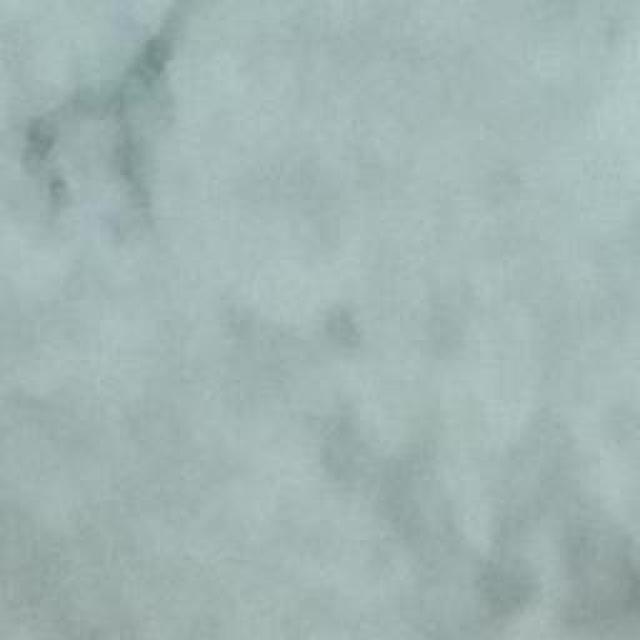Radial: (19, 0, 188, 243)
